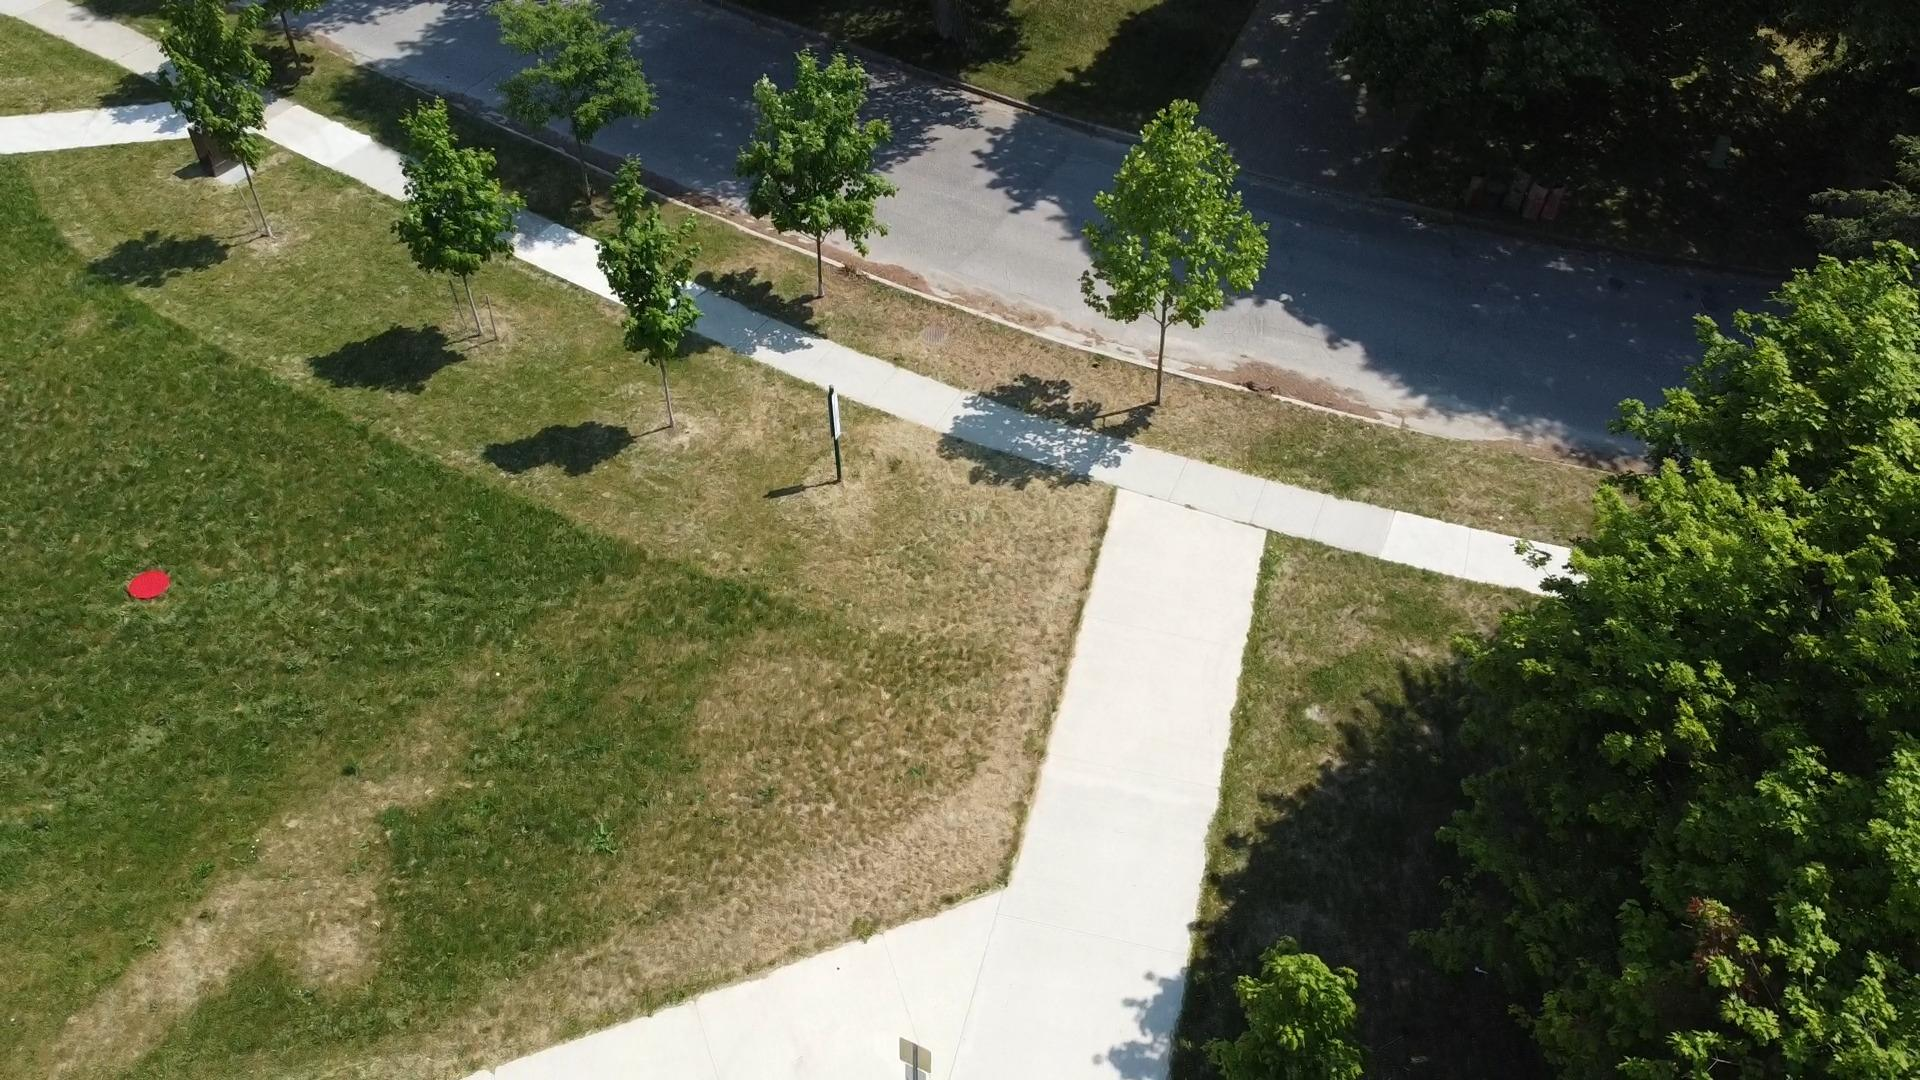Red: (127, 570, 171, 601)
